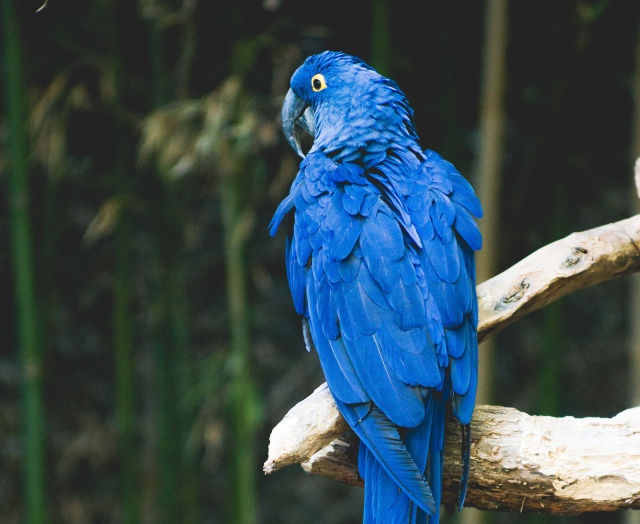guacamaya: (248, 47, 492, 513)
